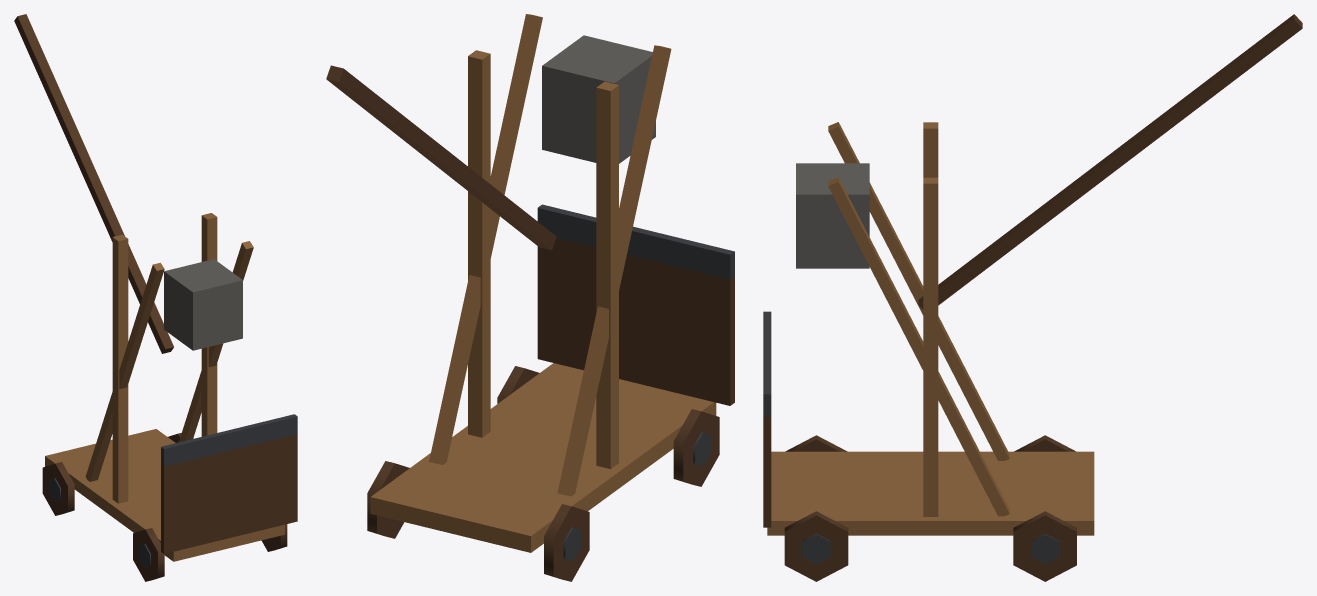
The model's file is unit_mil_trebuchet_a03_lod1.glb.
3 renders of one model, left to right at view 1: azimuth 30°, elevation 25°; view 2: azimuth 150°, elevation 25°; view 3: azimuth 270°, elevation 25°, orthographic. The views are drawn at different scales.
Visible parts, largest first — view 1: body, arm, wheel_0, wheel_2; view 2: body, arm, wheel_2, wheel_0, wheel_1, wheel_3; view 3: body, arm, wheel_3, wheel_1.
Part boxes in pixels (x1,y1,x2,y2): body: [45, 213, 297, 561]; arm: [14, 14, 242, 353]; wheel_0: [42, 462, 74, 515]; wheel_2: [133, 528, 164, 581]; body: [370, 14, 734, 552]; arm: [326, 35, 655, 250]; wheel_2: [673, 409, 719, 486]; wheel_0: [544, 504, 589, 581]; wheel_1: [367, 461, 409, 538]; wheel_3: [497, 366, 539, 403]; body: [763, 122, 1094, 535]; arm: [796, 14, 1302, 309]; wheel_3: [784, 511, 848, 581]; wheel_1: [1013, 511, 1076, 581].
Size of the model in its own units: 2.4 by 7.09 by 6.6.
